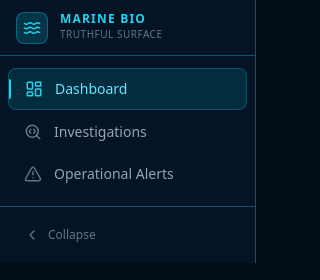
Test case: sidebar collapse control still works
Click the button with aria-label "collapse sidebar" at (128, 235), box [12,219,243,251]
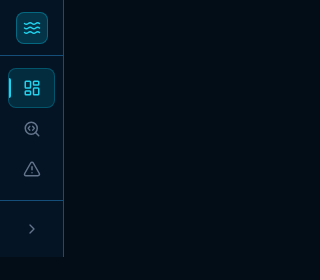
Now the button named "expand sidebar" is shown, box [12,213,51,245]
